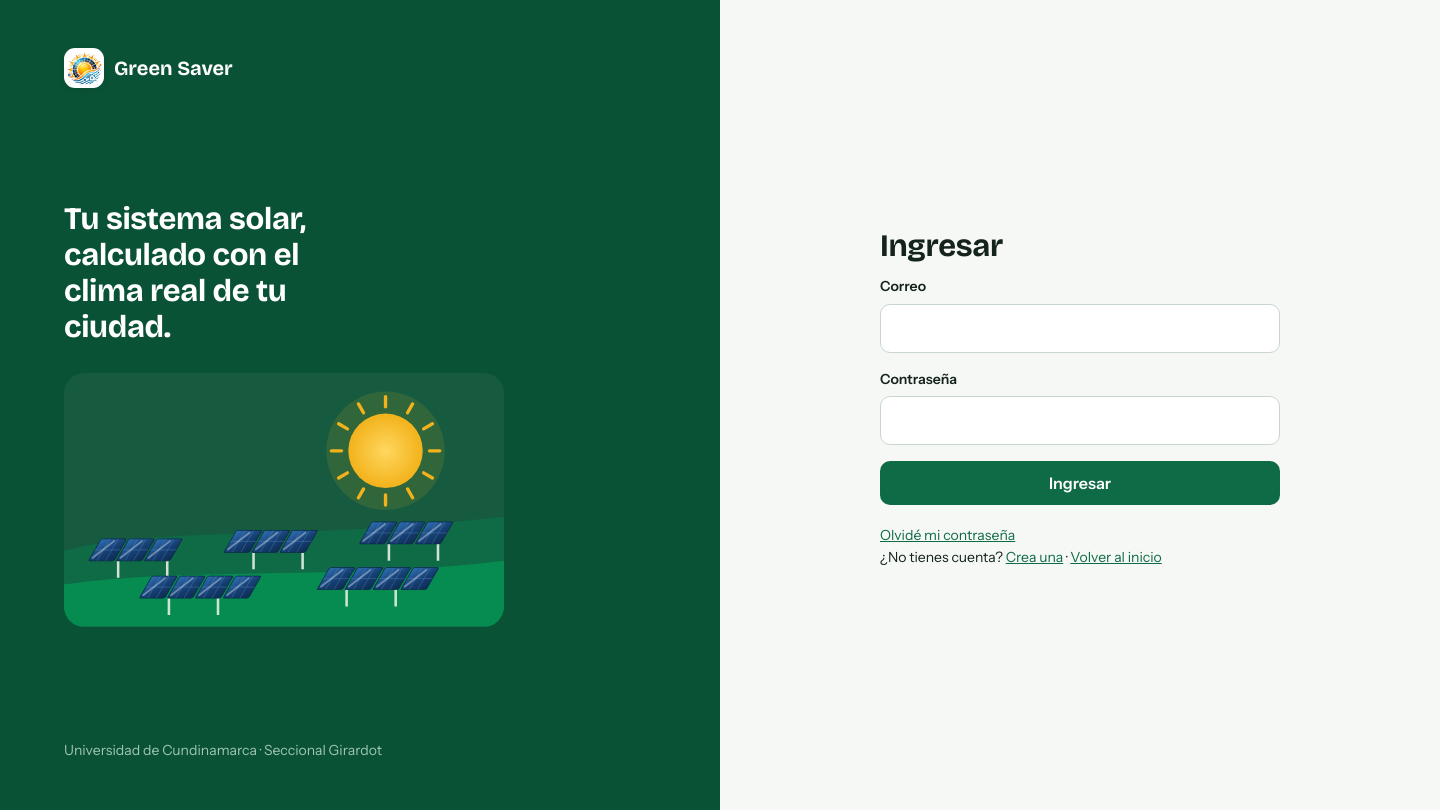
formularios › el login muestra un mensaje claro si las credenciales no coinciden
Type "ana@prueba.com" into the field labelled "Correo" at {"x": 1080, "y": 328}, box [880, 304, 1280, 352]
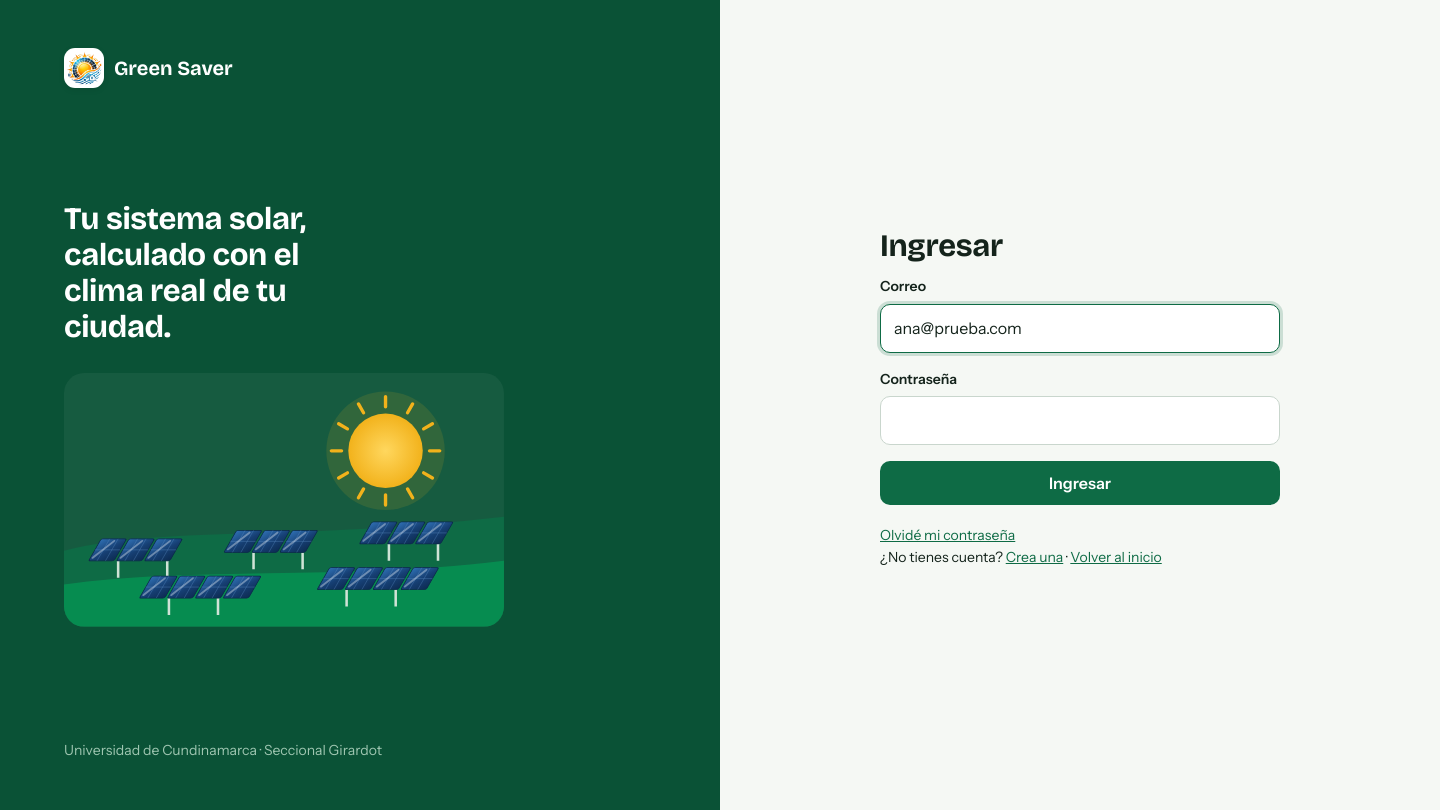
Type "mala" into the password field labelled "Contraseña" at {"x": 1080, "y": 421}, box [880, 396, 1280, 445]
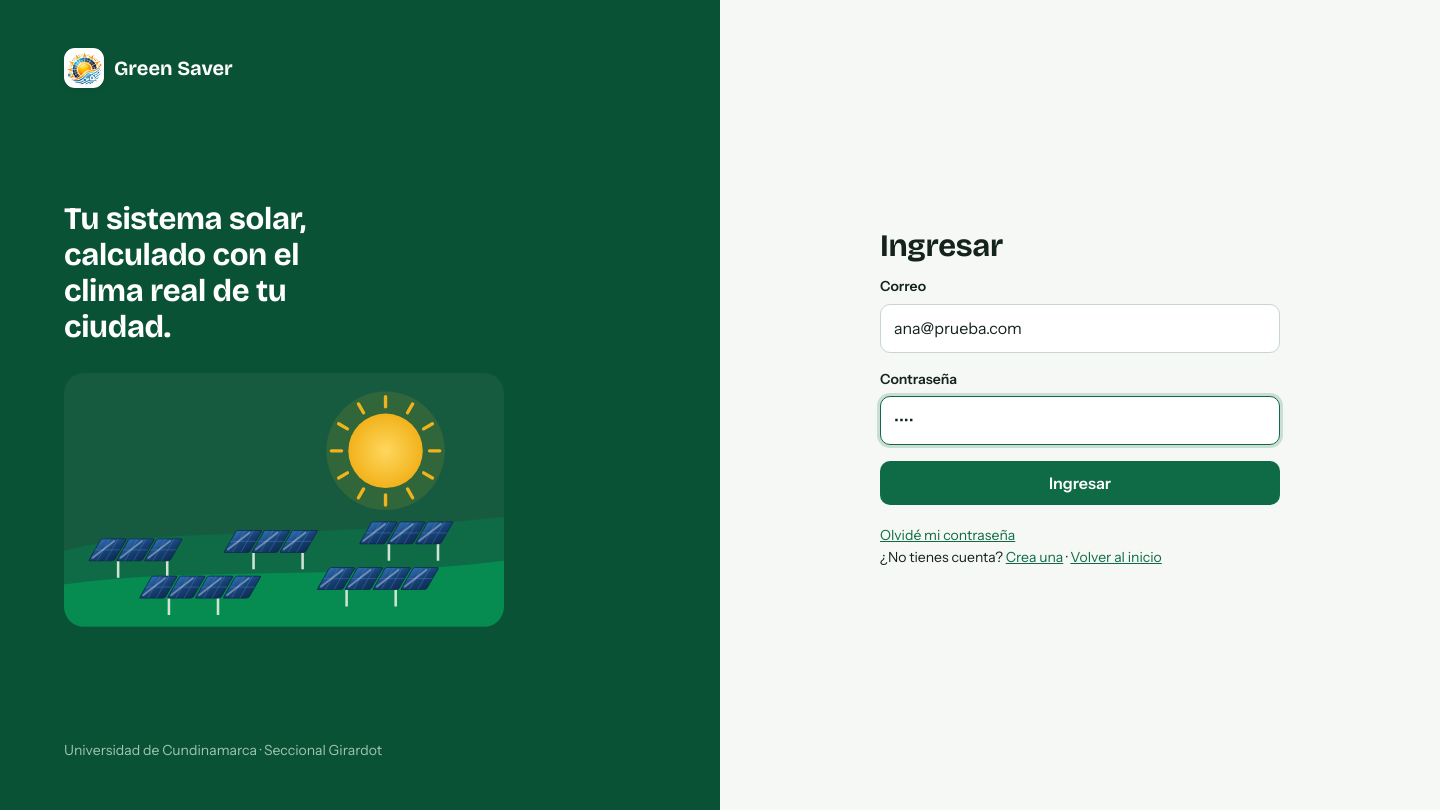
Click the button "Ingresar" at {"x": 1080, "y": 483}, box [880, 461, 1280, 505]
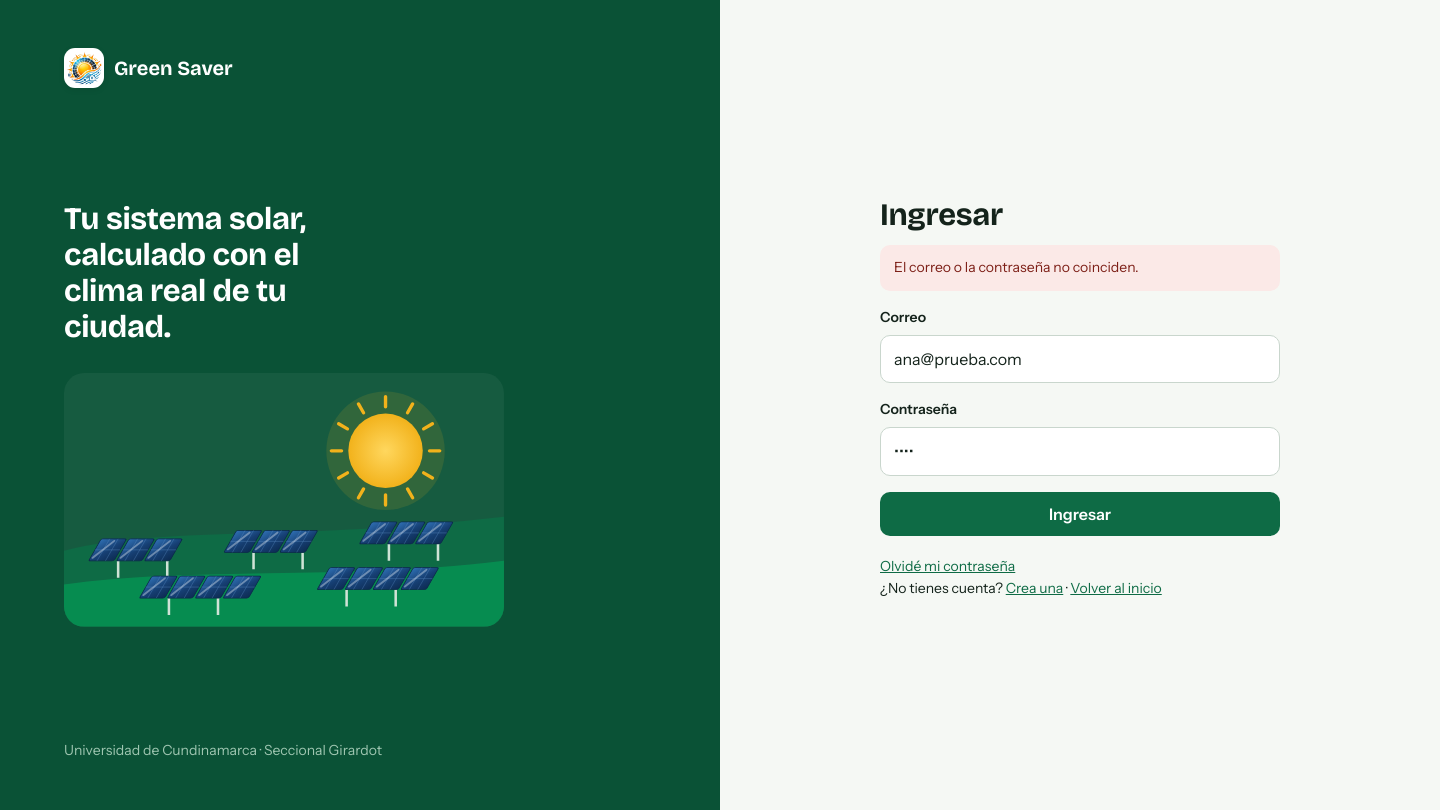
Result: the text "El correo o la contraseña no coinciden." is shown at [880, 245, 1280, 291]
